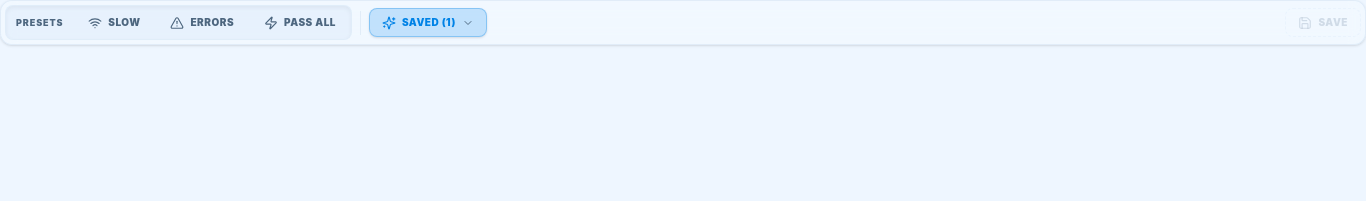
PresetBar › shows saved presets dropdown with apply and delete
// Click the "Saved (1)" button
What coordinates should you click on to do the following:
click the button "Saved (1)"
I would click on:
 (428, 22)
Its box is [369,8,487,37].
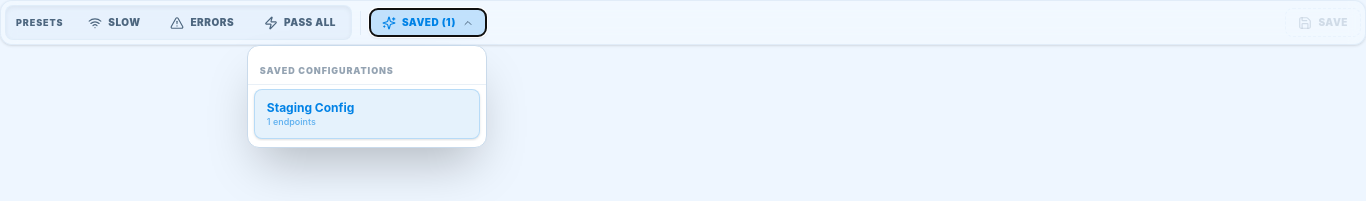
Result: the text "Staging Config" is shown at [267,100,354,115]
Result: the text "1 endpoints" is shown at [267,116,316,127]
